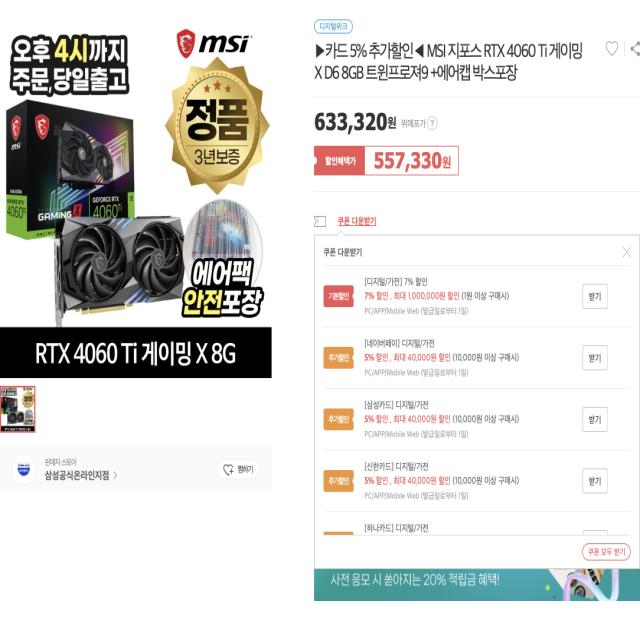product_discount_price: (368, 149, 454, 175)
product_name: (312, 36, 587, 82)
product_original_price: (312, 111, 398, 142)
